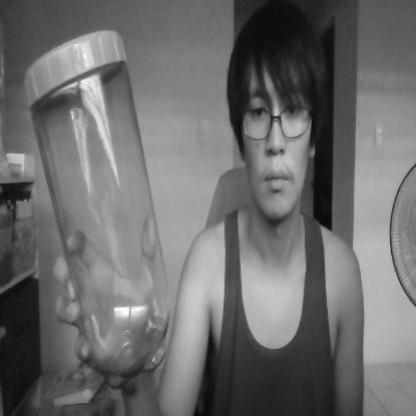Plastic Bottle: (17, 24, 174, 386)
